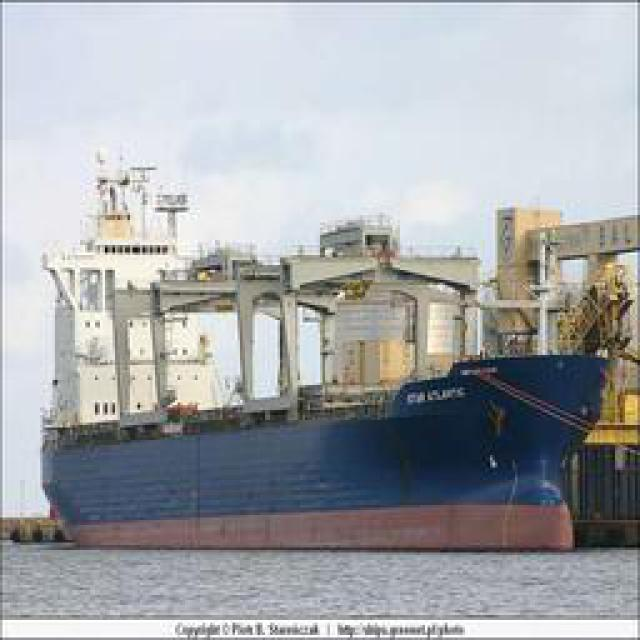Ship: (38, 150, 603, 568)
